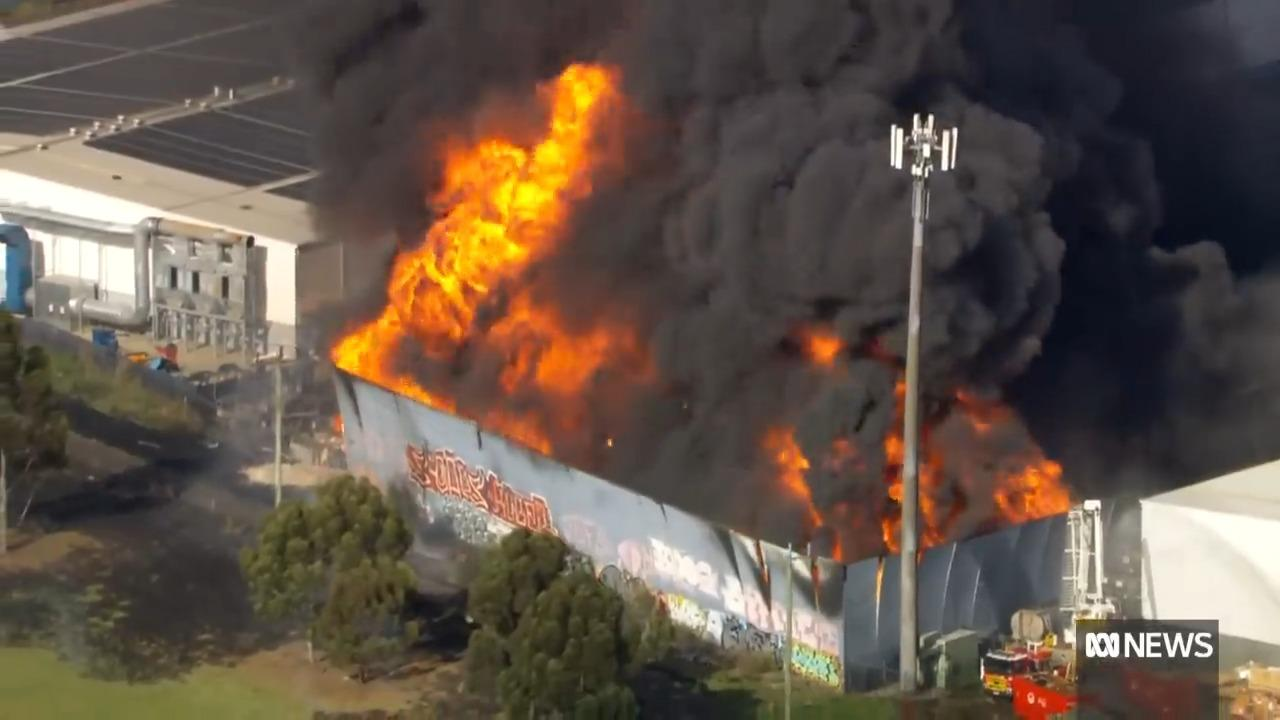fire: (331, 42, 643, 434), (753, 427, 847, 542), (883, 419, 952, 552), (980, 612, 1062, 719), (991, 455, 1071, 525), (793, 304, 857, 380)
